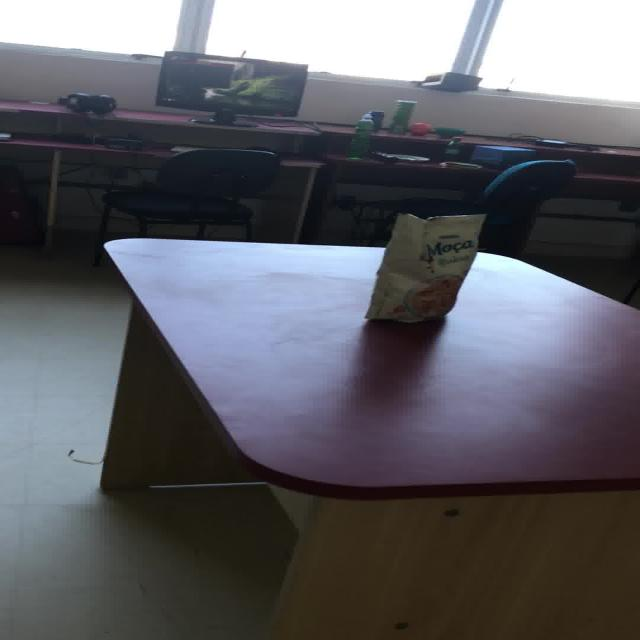corn flakes: (363, 211, 486, 323), (389, 99, 416, 133)
